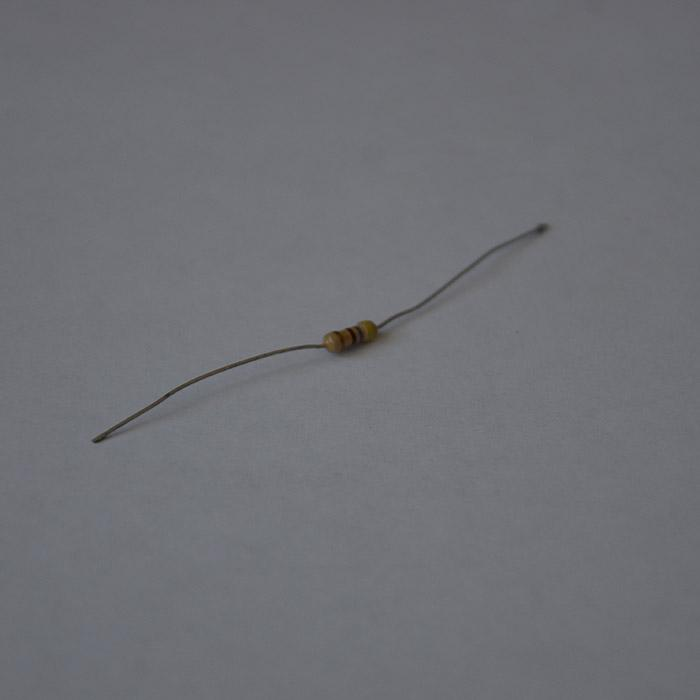resistor: (324, 319, 377, 352)
